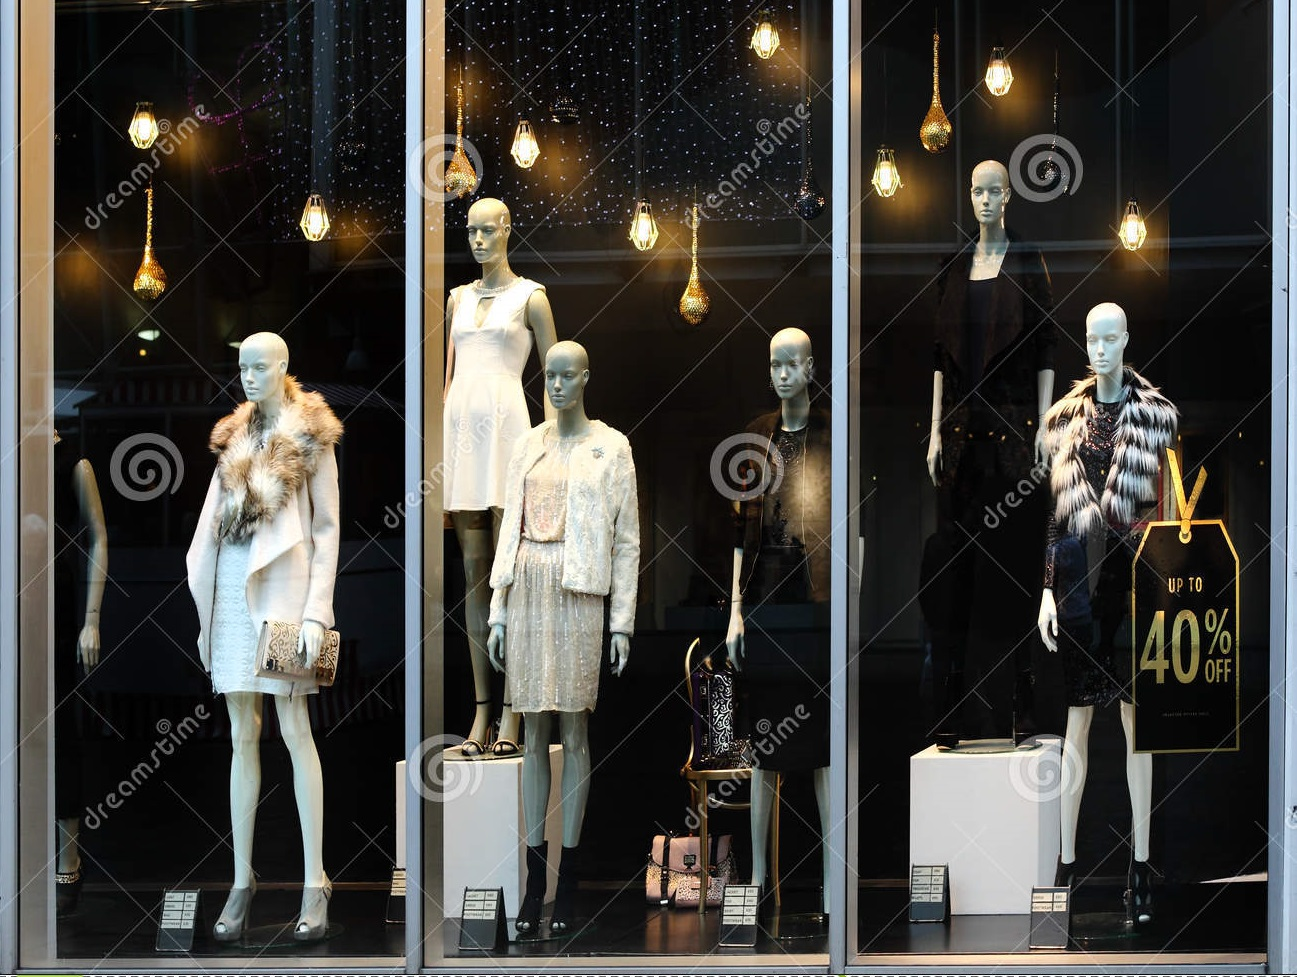person-like: (181, 324, 347, 944), (482, 332, 647, 947), (1034, 296, 1186, 939), (437, 193, 565, 758), (721, 324, 837, 939), (922, 155, 1059, 553)
